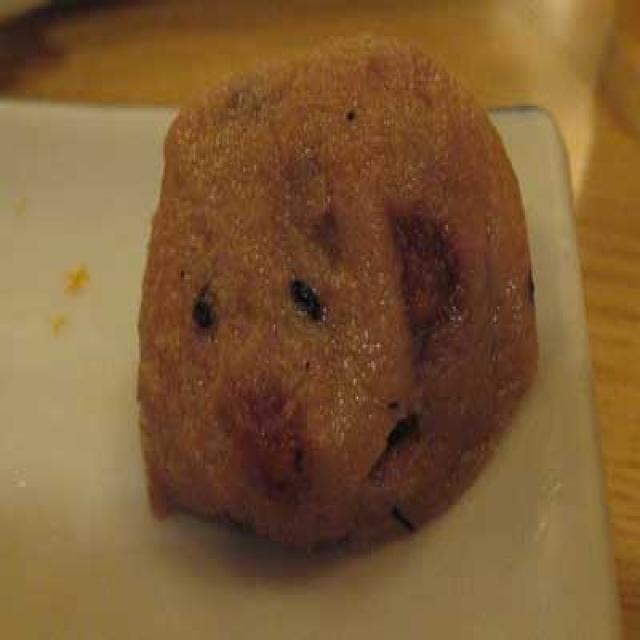熟制海鲜: (112, 24, 549, 566)
